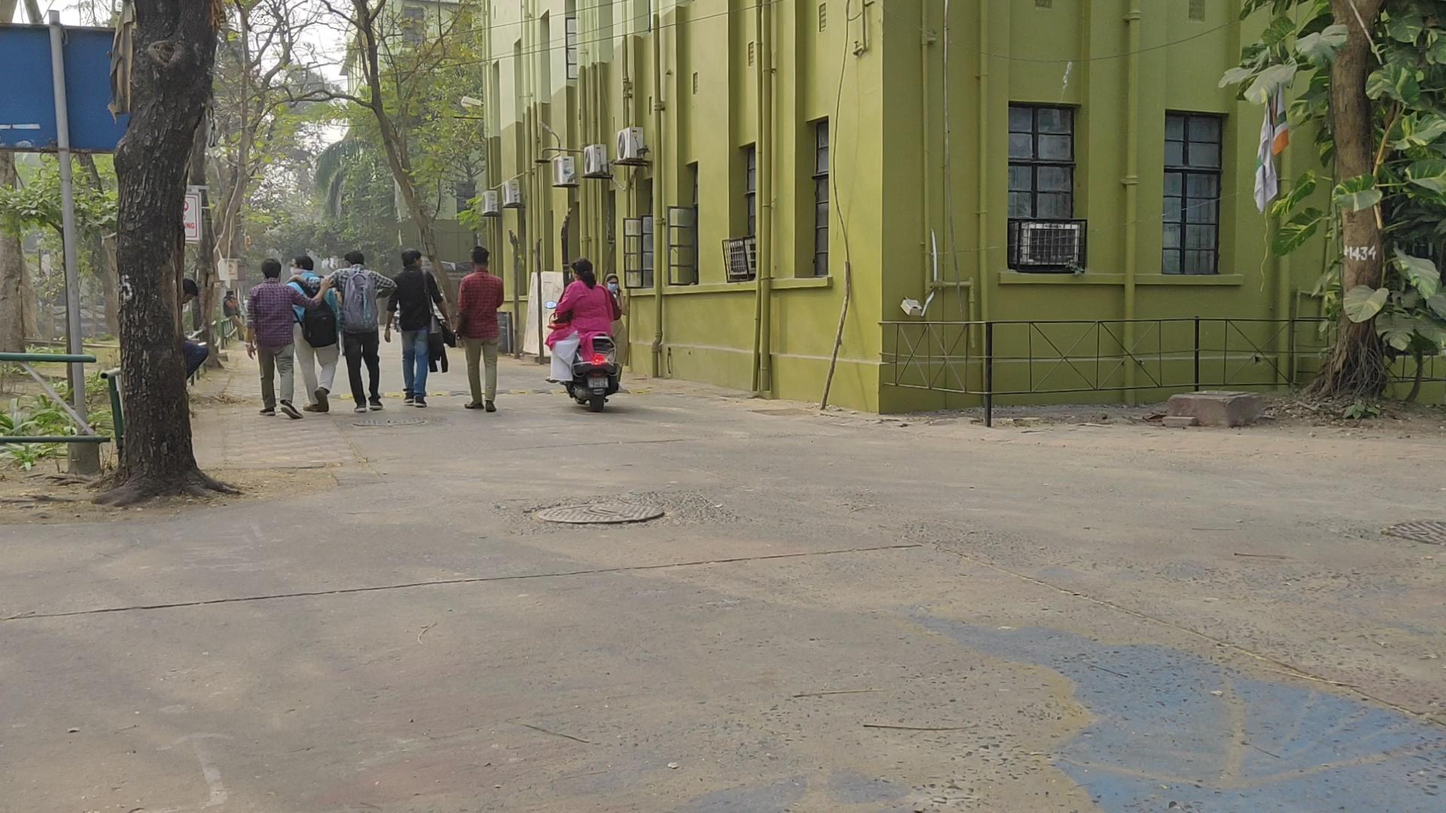bike: (545, 260, 624, 410)
